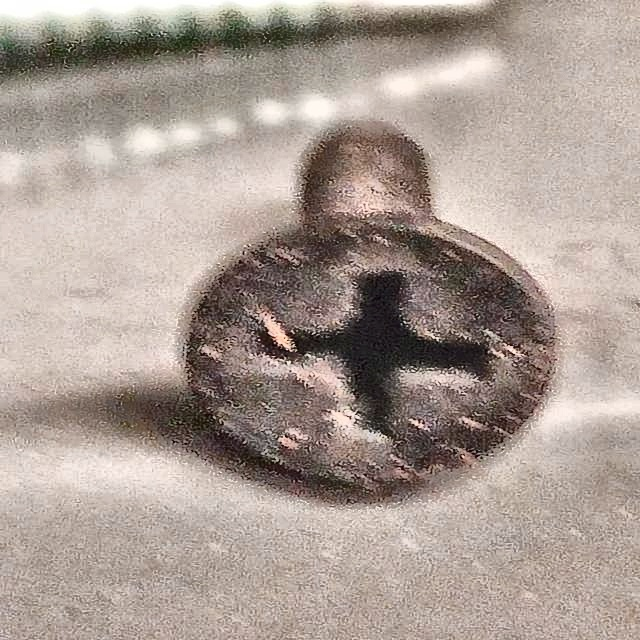phillips: (178, 212, 558, 493)
